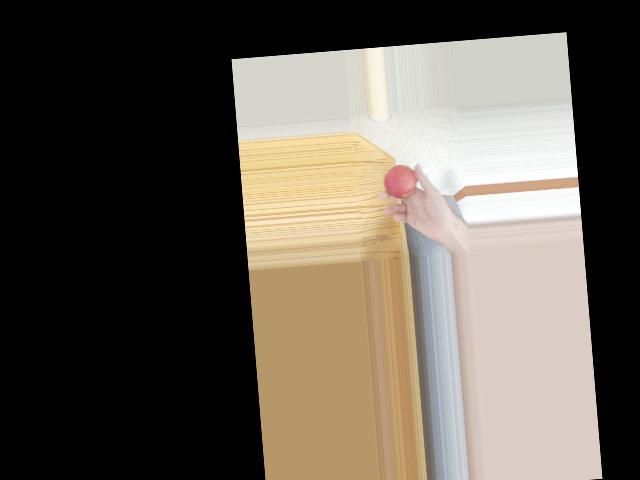apple: (382, 160, 423, 199)
